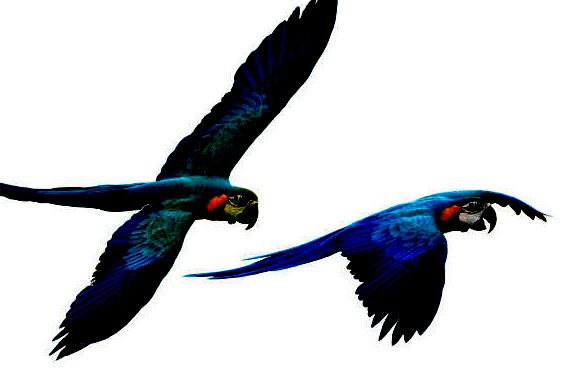Bird: (1, 2, 335, 361), (183, 187, 553, 349)
